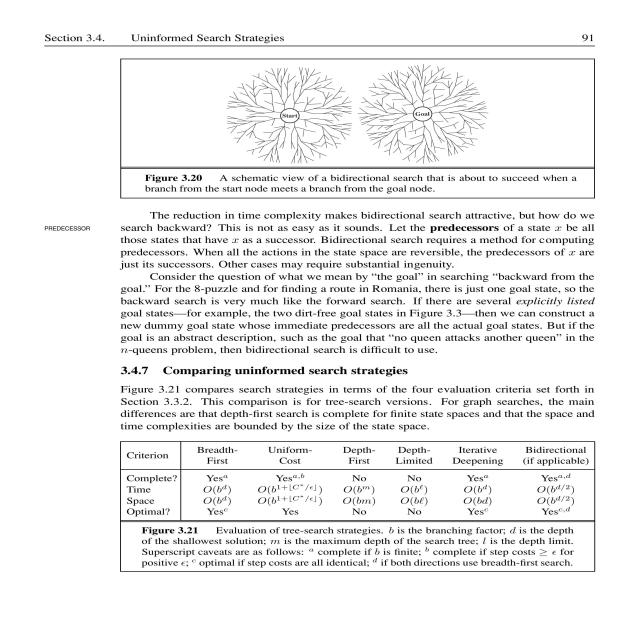diagram: (121, 57, 633, 208)
